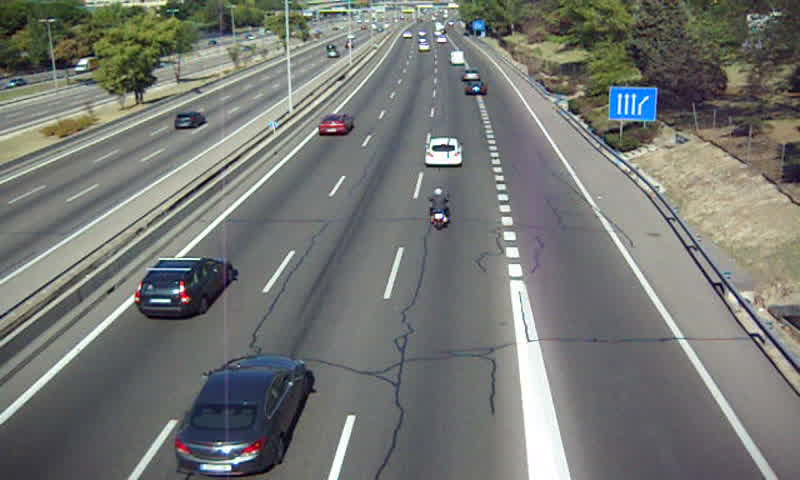car: (175, 354, 310, 476), (136, 258, 234, 319), (424, 138, 462, 168), (319, 113, 352, 136), (464, 82, 488, 96), (460, 68, 481, 83)
motorcycle: (426, 188, 450, 233)
van: (449, 50, 465, 65)
